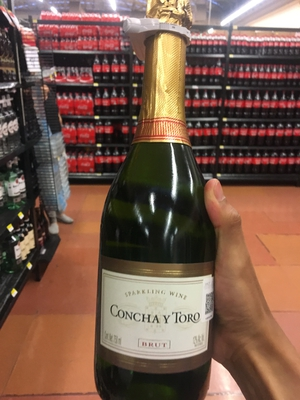brut: (86, 14, 225, 400)
